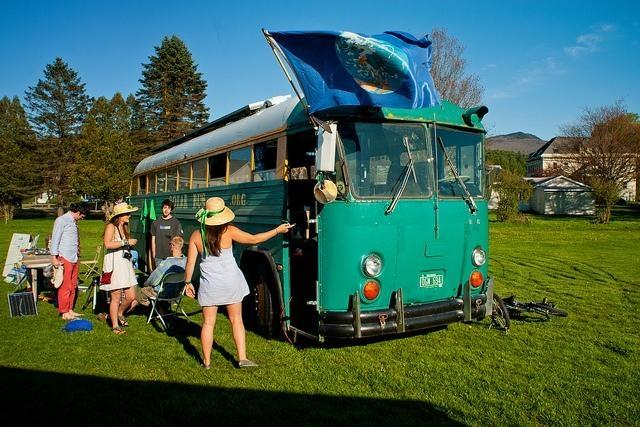bicycle: (499, 294, 568, 320), (484, 276, 511, 332)
bus: (128, 94, 492, 342)
